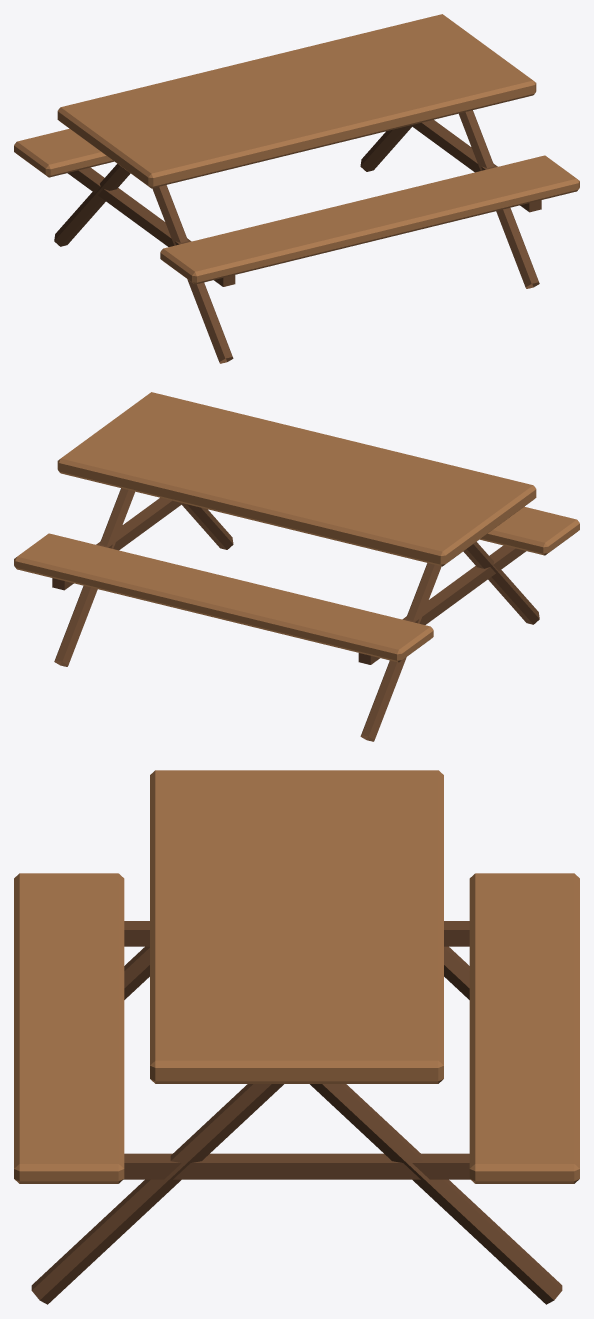
The model's file is mesa-piquenique.glb.
3 renders of one model, top to bottom at view 1: azimuth 30°, elevation 25°; view 2: azimuth 150°, elevation 25°; view 3: azimuth 270°, elevation 25°, orthographic. The views are drawn at different scales.
Visible parts, largest first — view 1: mesa-piquenique; view 2: mesa-piquenique; view 3: mesa-piquenique.
Part boxes in pixels (bbox=[...]): mesa-piquenique: bbox=[14, 14, 579, 363]; mesa-piquenique: bbox=[14, 392, 579, 741]; mesa-piquenique: bbox=[14, 770, 579, 1304].
Size of the model in its own units: 1.9 by 0.8111 by 1.54.
